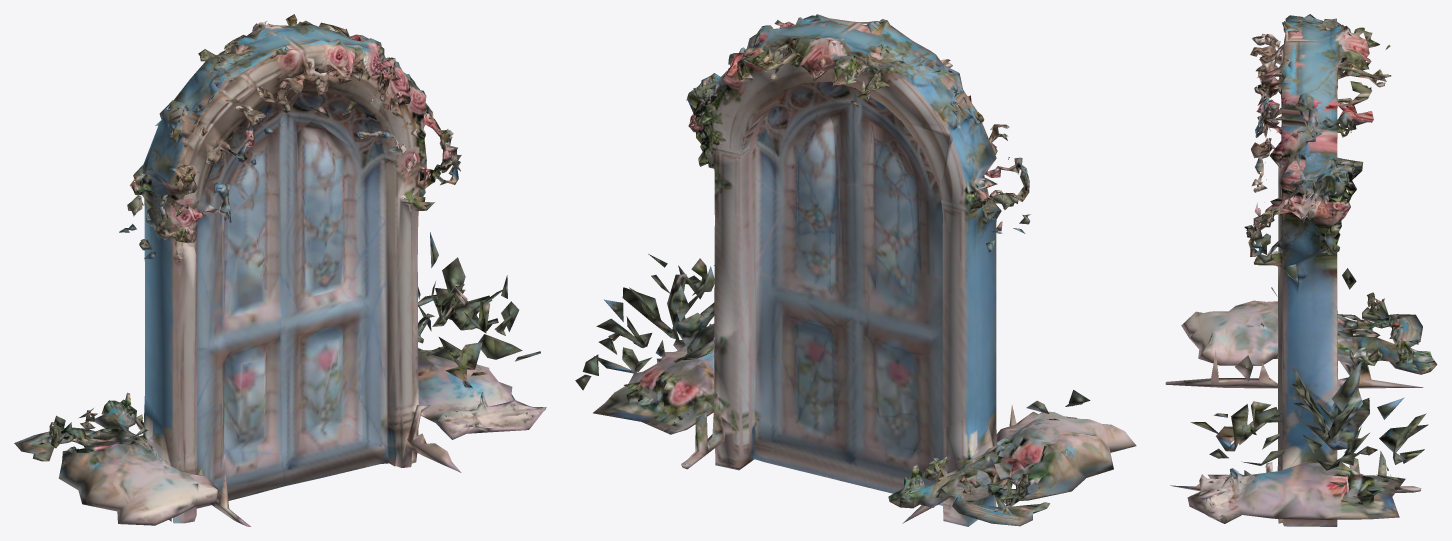
The model's file is Meshy_AI__Object_Charmi_1016065945_texture.fbx.
3 renders of one model, left to right at view 1: azimuth 30°, elevation 25°; view 2: azimuth 150°, elevation 25°; view 3: azimuth 270°, elevation 25°, orthographic. The views are drawn at different scales.
Visible parts, largest first — view 1: Mesh_0; view 2: Mesh_0; view 3: Mesh_0.
Boxes of the visible parts, left/top/right/bottom form: Mesh_0: left=14, top=14, right=546, bottom=526; Mesh_0: left=575, top=14, right=1136, bottom=526; Mesh_0: left=1165, top=14, right=1437, bottom=526.
Size of the model in its own units: 193 by 181 by 101.
Materials: 1 (1 with a texture image).
